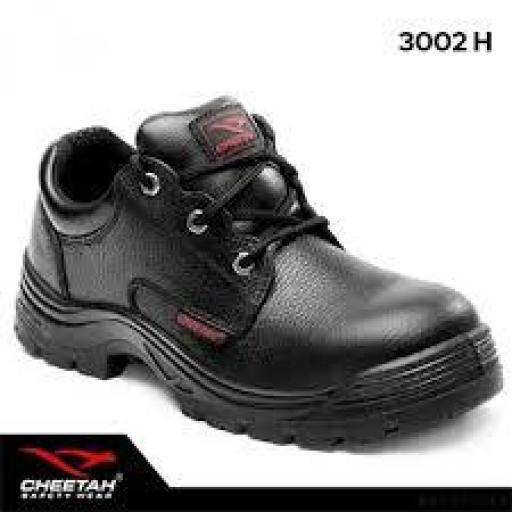safety_boots: (4, 94, 512, 449)
